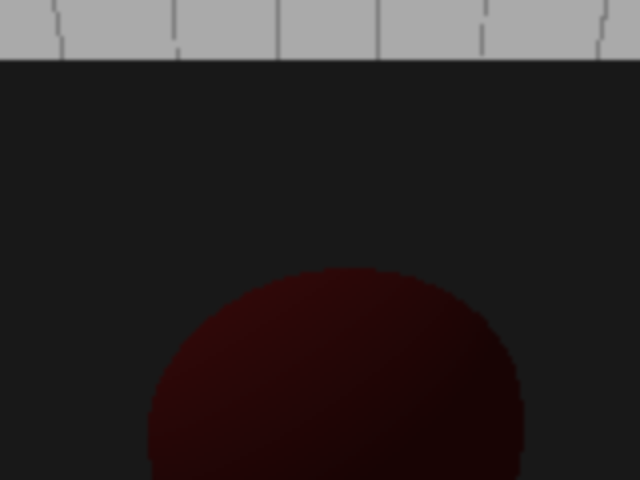goal_zone: (602, 153, 638, 161)
obstacle: (184, 239, 297, 329), (281, 167, 328, 186)
